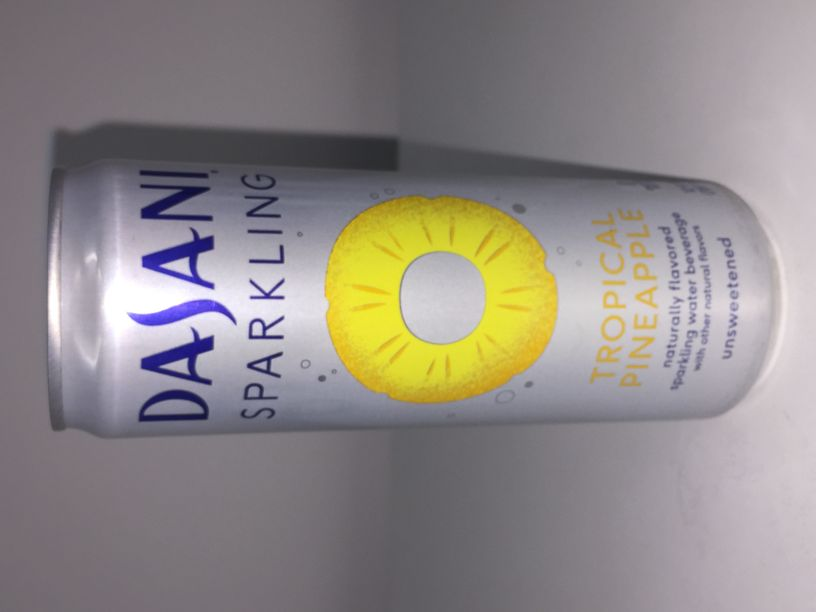pineapple: (44, 155, 781, 441)
